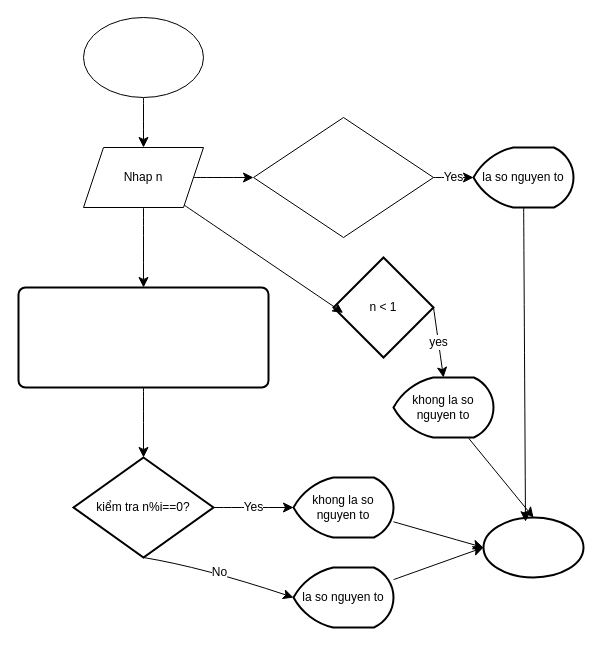
This 601x646 diagram has some shape labels left out. The shapes that lost their labels are listed below. From the top down, each one's centre as x and y in pixels, then its label:
At (x=143, y=57): "Start".
At (x=343, y=177): "n == 2 or n==1".
At (x=143, y=337): "bắt đầu vòng lặp i từ 2 đến căn bậc 2 của n".
At (x=533, y=547): "End".
